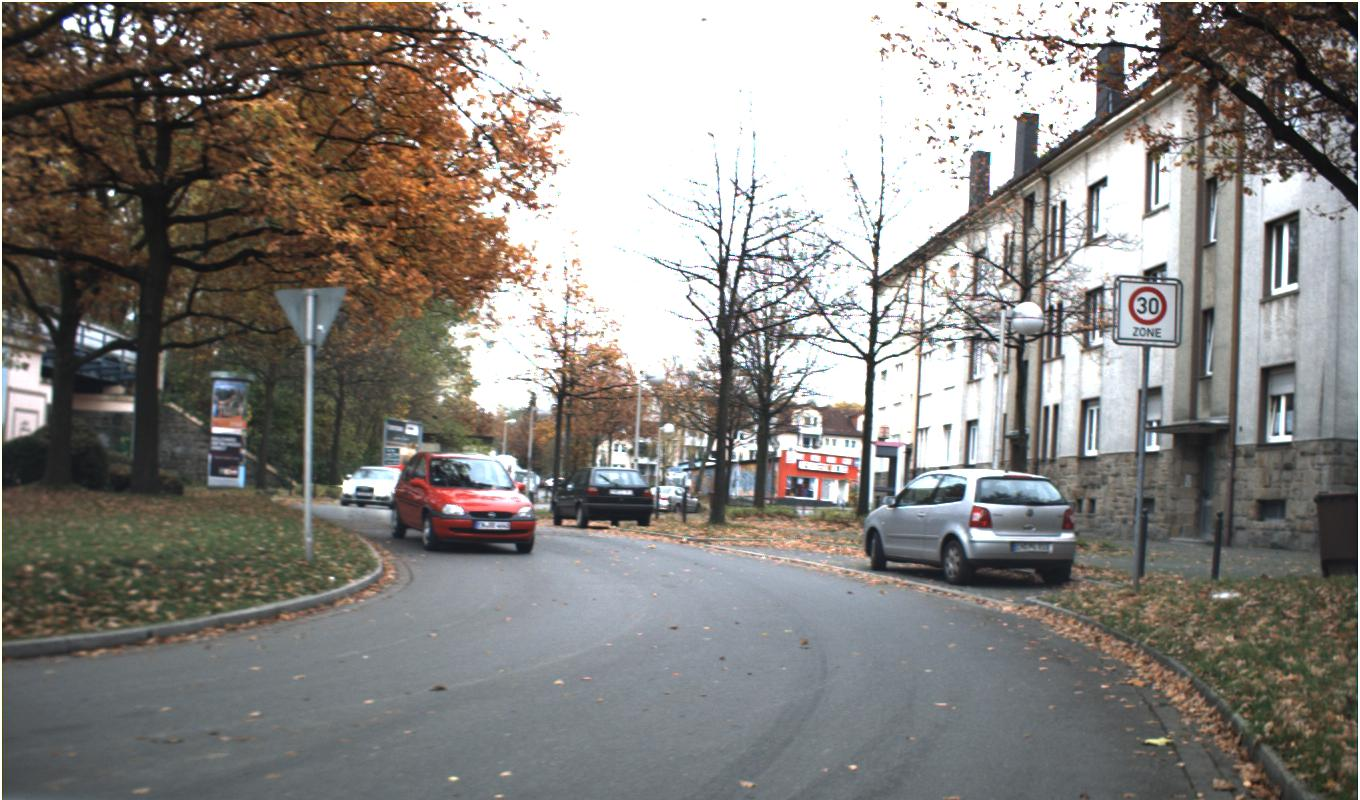prohibitory: (1127, 285, 1168, 326)
